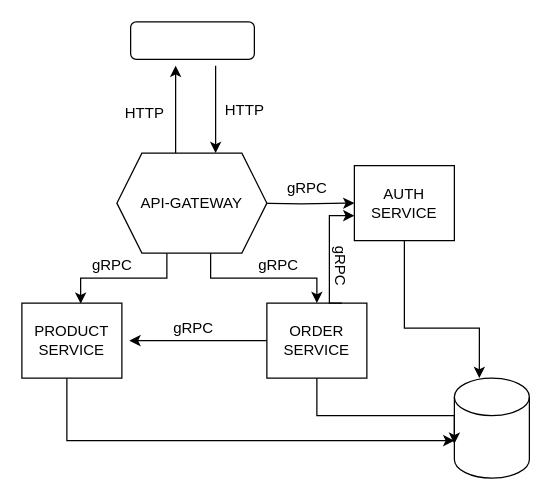
The diagram is 551 pixels wide and 500 high, and some of its shapes have lost their labels. Each missing label, with the centre of its shape:
"CLIENT" goes at (x=191, y=40).
"DB posgres" goes at (x=491, y=427).
